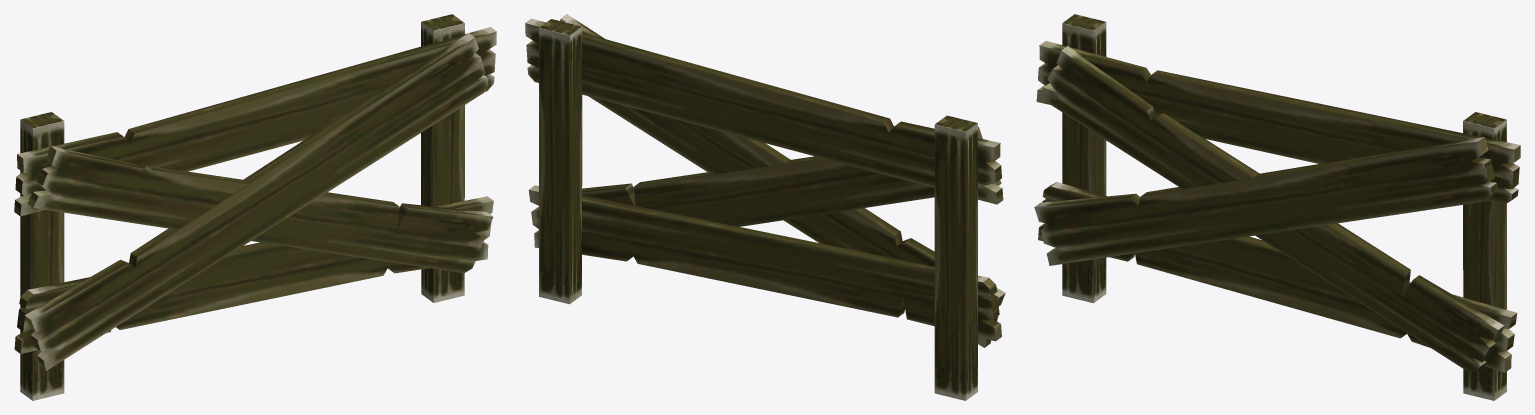
Rendered from WoodPlanks.fbx.
3 views of the same model, side by side, from view 1: azimuth 30°, elevation 25°; view 2: azimuth 150°, elevation 25°; view 3: azimuth 330°, elevation 25° (orthographic).
Parts seen in each view (by area): view 1: n0b0; view 2: n0b0; view 3: n0b0.
Part boxes in pixels (x1=…): n0b0: x1=14, y1=14, x2=496, y2=400; n0b0: x1=525, y1=14, x2=1005, y2=400; n0b0: x1=1034, y1=14, x2=1520, y2=400.
Size of the model in its own units: 1119 by 610 by 104.
